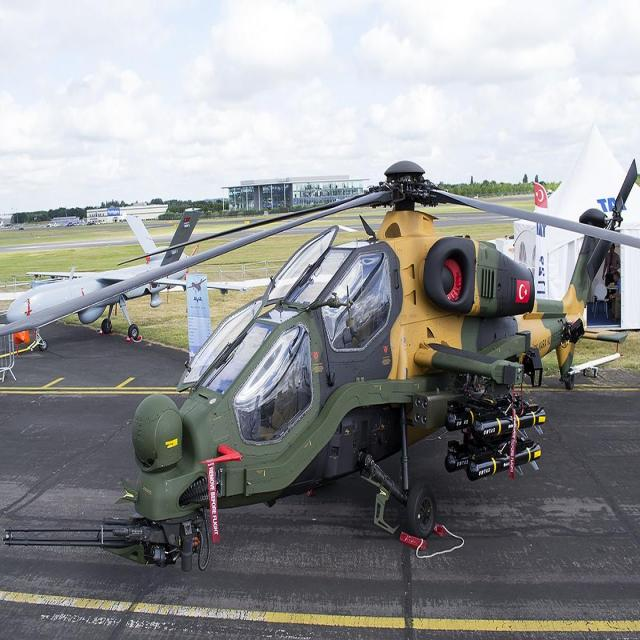MIL_HELO: (0, 144, 627, 557)
